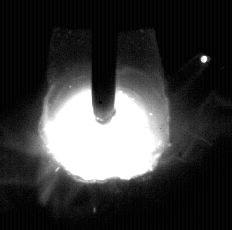arame: (92, 0, 118, 124)
poca: (36, 0, 170, 230)
